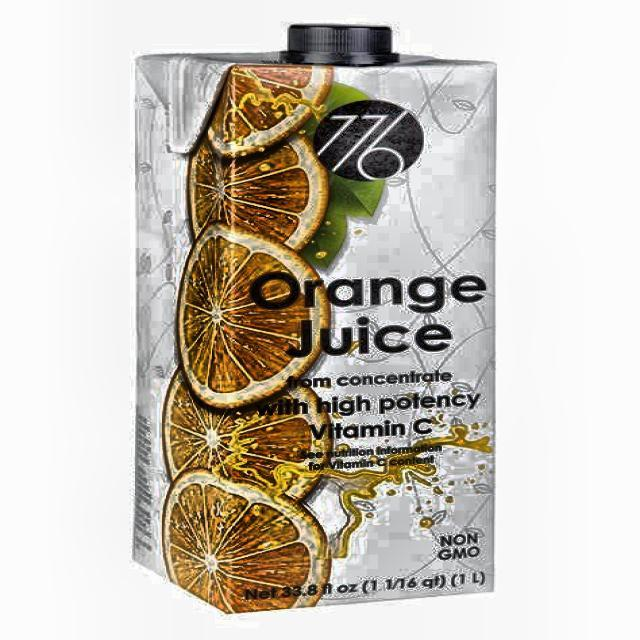cardboard: (131, 37, 497, 612)
